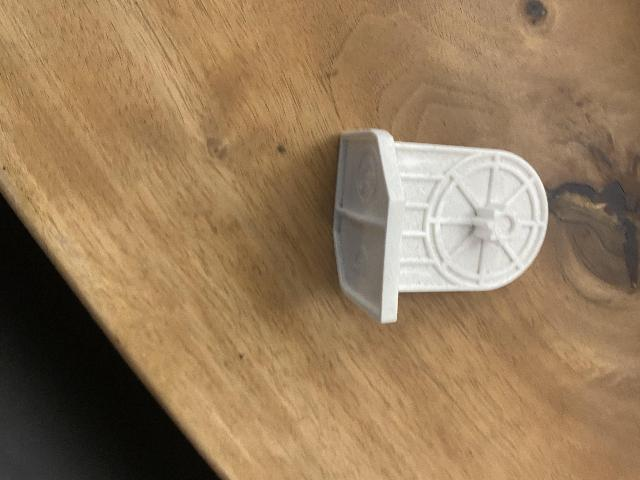Plastik: (338, 130, 546, 314)
